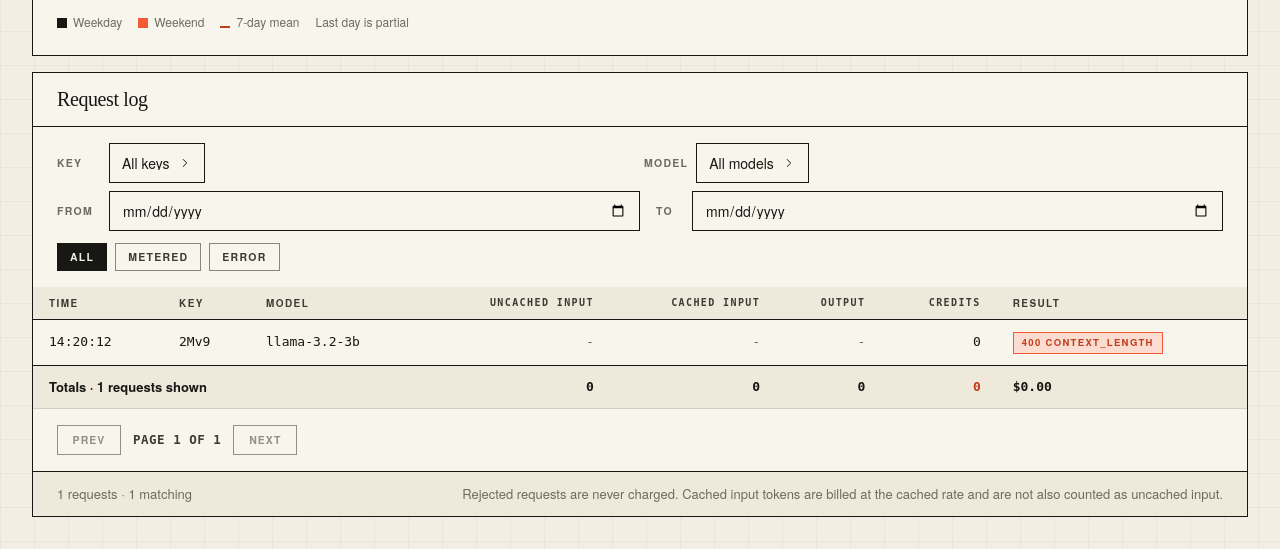
Scenario: UsageComponent › a filter that matches nothing renders No matching requests
(page scrolled)
Click the button with class "txn-filter" showing "Metered": (158, 257) [115,243,201,271]
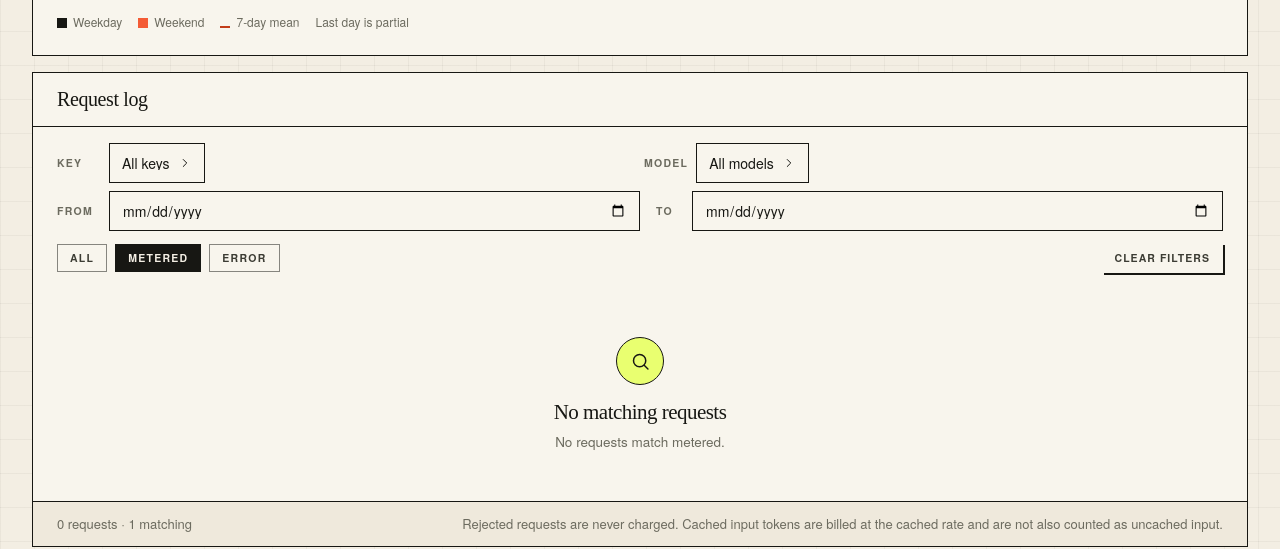
Check: the table with class "tbl" is gone
Check: the text "No matching requests" is shown, box [554,400,726,424]
